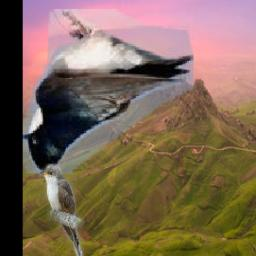Cuckoo: (39, 164, 84, 256)
Swallow: (24, 9, 195, 174)
